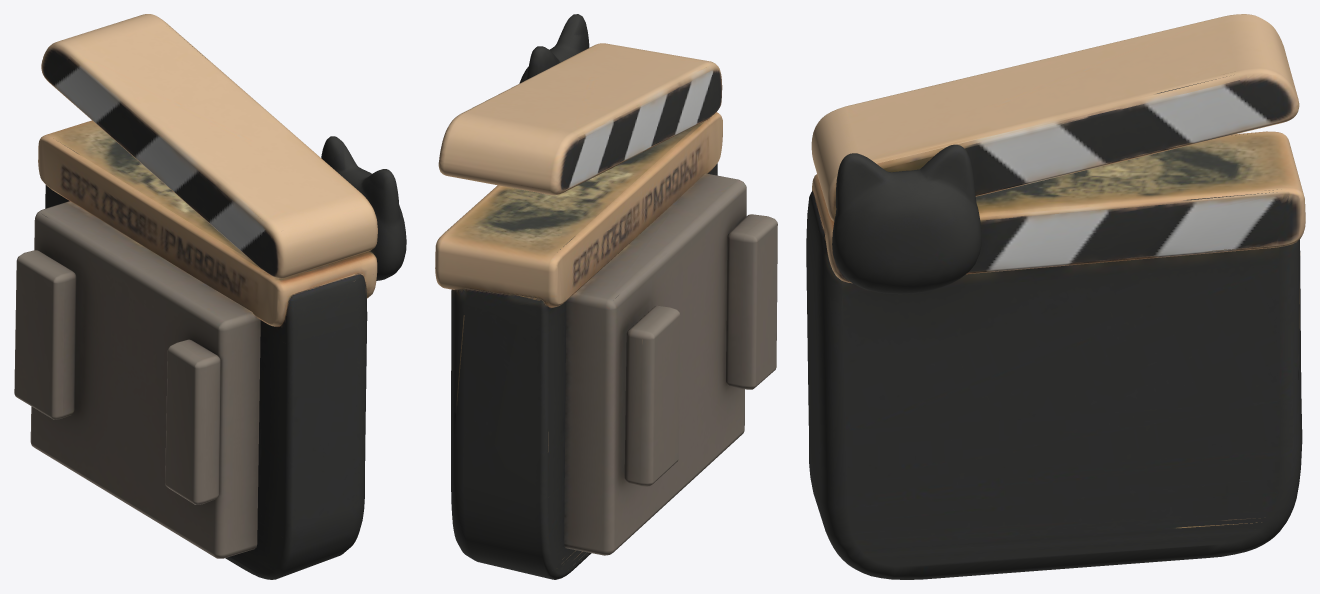
File: actor-rehearsal-slate.glb
3 renders of one model, left to right at view 1: azimuth 30°, elevation 25°; view 2: azimuth 150°, elevation 25°; view 3: azimuth 270°, elevation 25°, orthographic. The views are drawn at different scales.
Visible parts, largest first — view 1: tripo_node_a389fe12-1d91-45c1-86fc-6a748cddd2b5; view 2: tripo_node_a389fe12-1d91-45c1-86fc-6a748cddd2b5; view 3: tripo_node_a389fe12-1d91-45c1-86fc-6a748cddd2b5.
Part boxes in pixels (<box>): tripo_node_a389fe12-1d91-45c1-86fc-6a748cddd2b5: <box>14,14,406,579</box>; tripo_node_a389fe12-1d91-45c1-86fc-6a748cddd2b5: <box>435,14,777,579</box>; tripo_node_a389fe12-1d91-45c1-86fc-6a748cddd2b5: <box>806,14,1305,579</box>.
Bounding box in the file's own units: 0.6027 × 0.9995 × 0.8957.
1 material, 1 textured.
